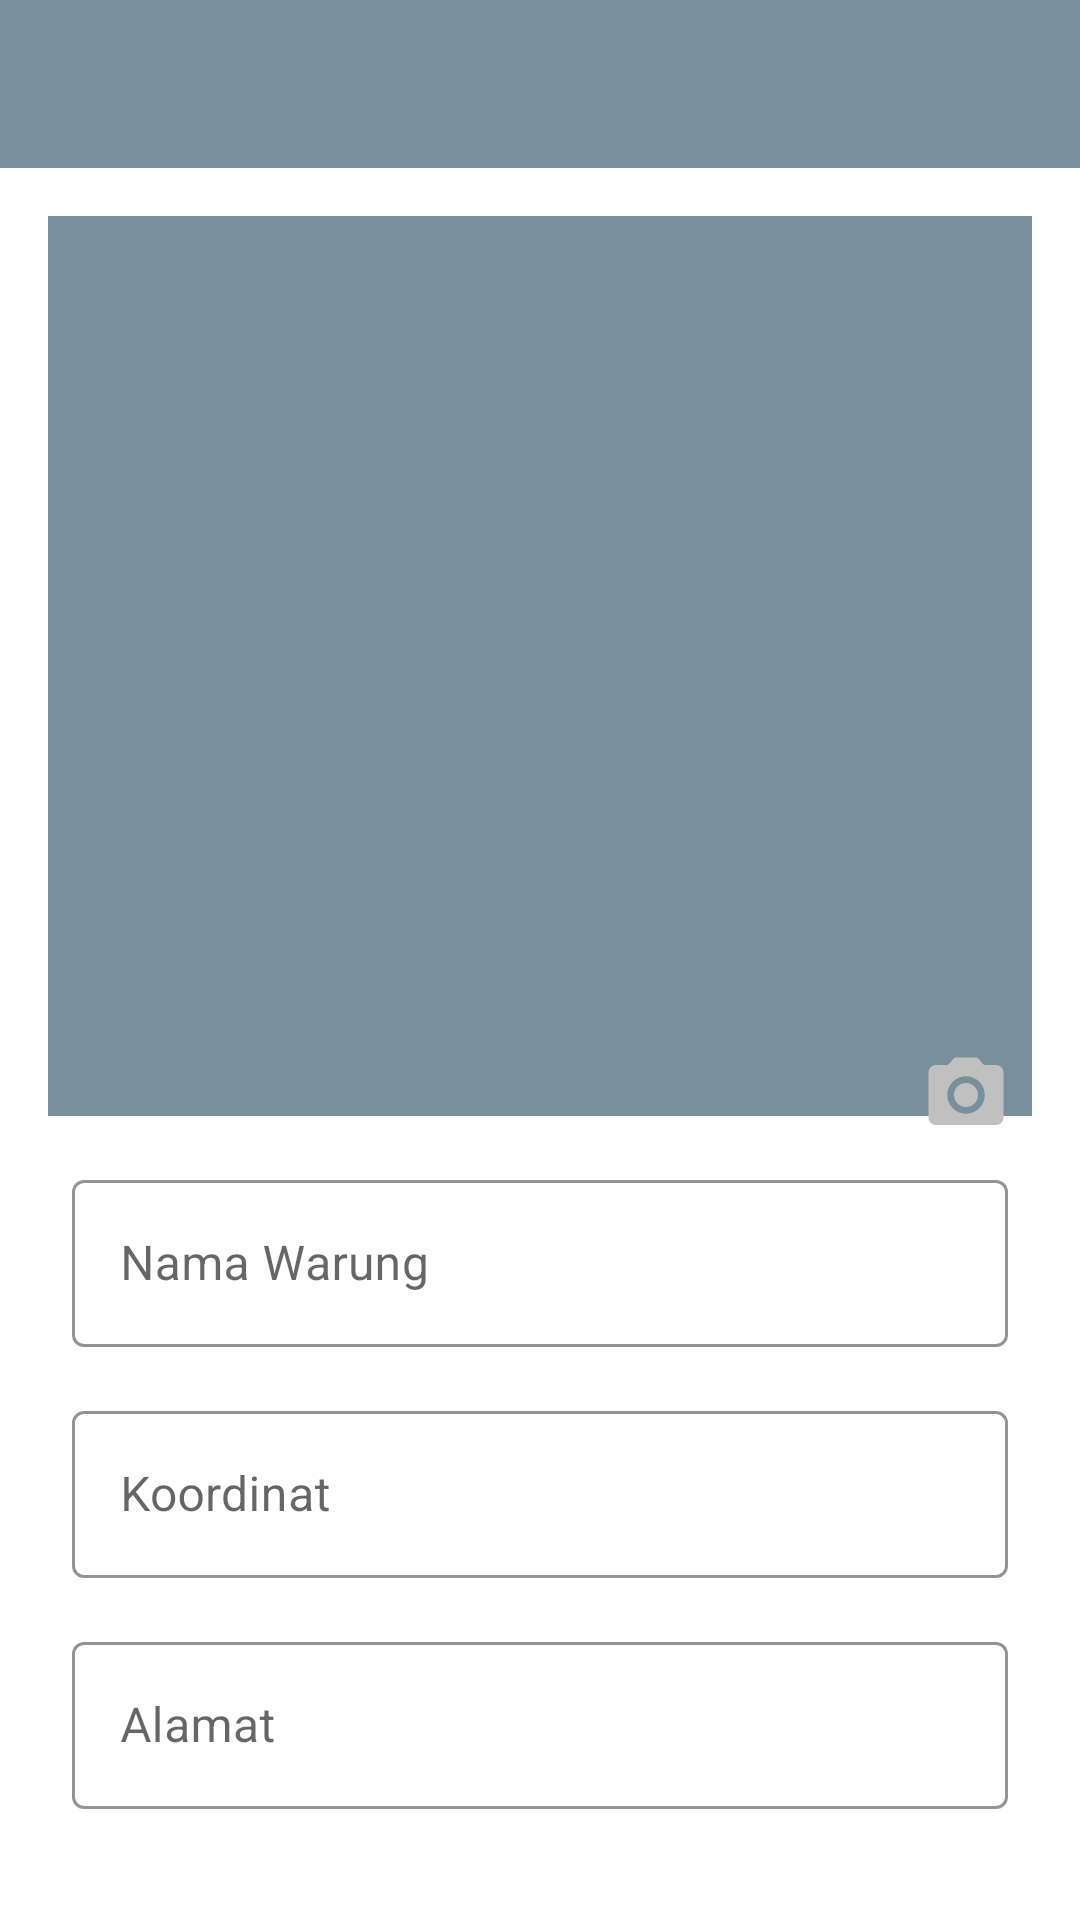

Named icons in this screenshot (1080px×1920px) and their bounding boxes, bbox=[x1, y1, x2, y2]:
camera: bbox=[921, 1057, 1011, 1140]
